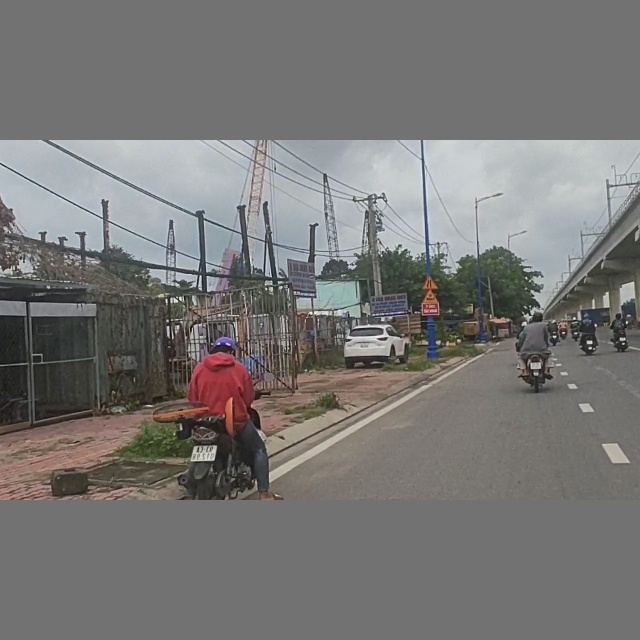W.203c: (420, 275, 439, 290)
W.245a: (421, 290, 439, 303)
